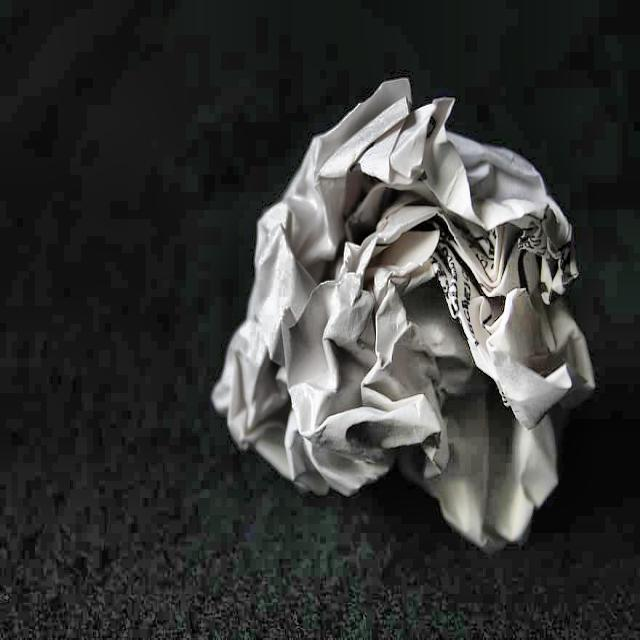Paper: (202, 66, 601, 566)
